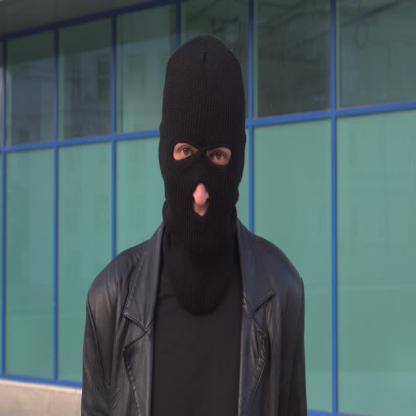criminal: (81, 33, 308, 416)
